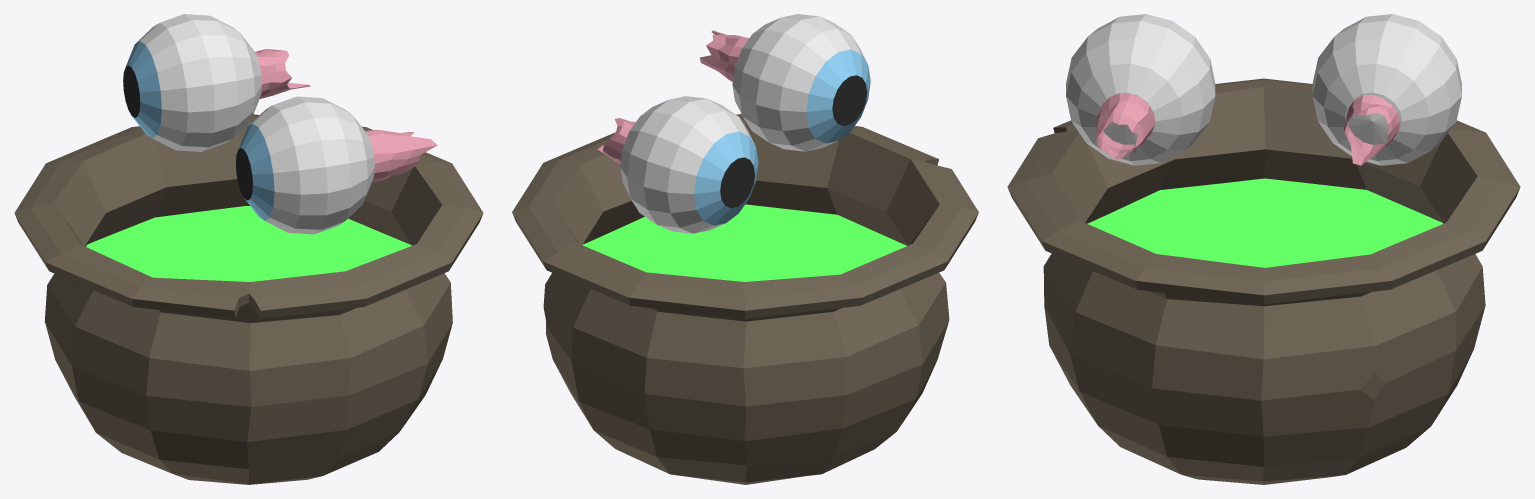
Rendered from eyesAndCauldron.glb.
The picture shows the model from 3 angles, left to right: view 1: azimuth 30°, elevation 25°; view 2: azimuth 150°, elevation 25°; view 3: azimuth 270°, elevation 25°; orthographic projection. The views are drawn at different scales.
Visible parts, largest first — view 1: cauldron, eyeball2, eyeball1, Sphere.001; view 2: cauldron, eyeball2, Sphere.001, eyeball1; view 3: cauldron, Sphere.001, eyeball1, eyeball2.
Boxes of the visible parts, bbox=[...] form: cauldron: bbox=[14, 114, 483, 484]; eyeball2: bbox=[236, 96, 437, 234]; eyeball1: bbox=[123, 14, 310, 151]; Sphere.001: bbox=[86, 206, 411, 281]; cauldron: bbox=[512, 114, 978, 484]; eyeball2: bbox=[700, 14, 870, 151]; Sphere.001: bbox=[583, 204, 906, 281]; eyeball1: bbox=[597, 96, 758, 233]; cauldron: bbox=[1007, 78, 1520, 484]; Sphere.001: bbox=[1087, 178, 1442, 267]; eyeball1: bbox=[1312, 14, 1461, 165]; eyeball2: bbox=[1066, 14, 1215, 165].
Size of the model in its own units: 1.66 by 1.5 by 1.66.
